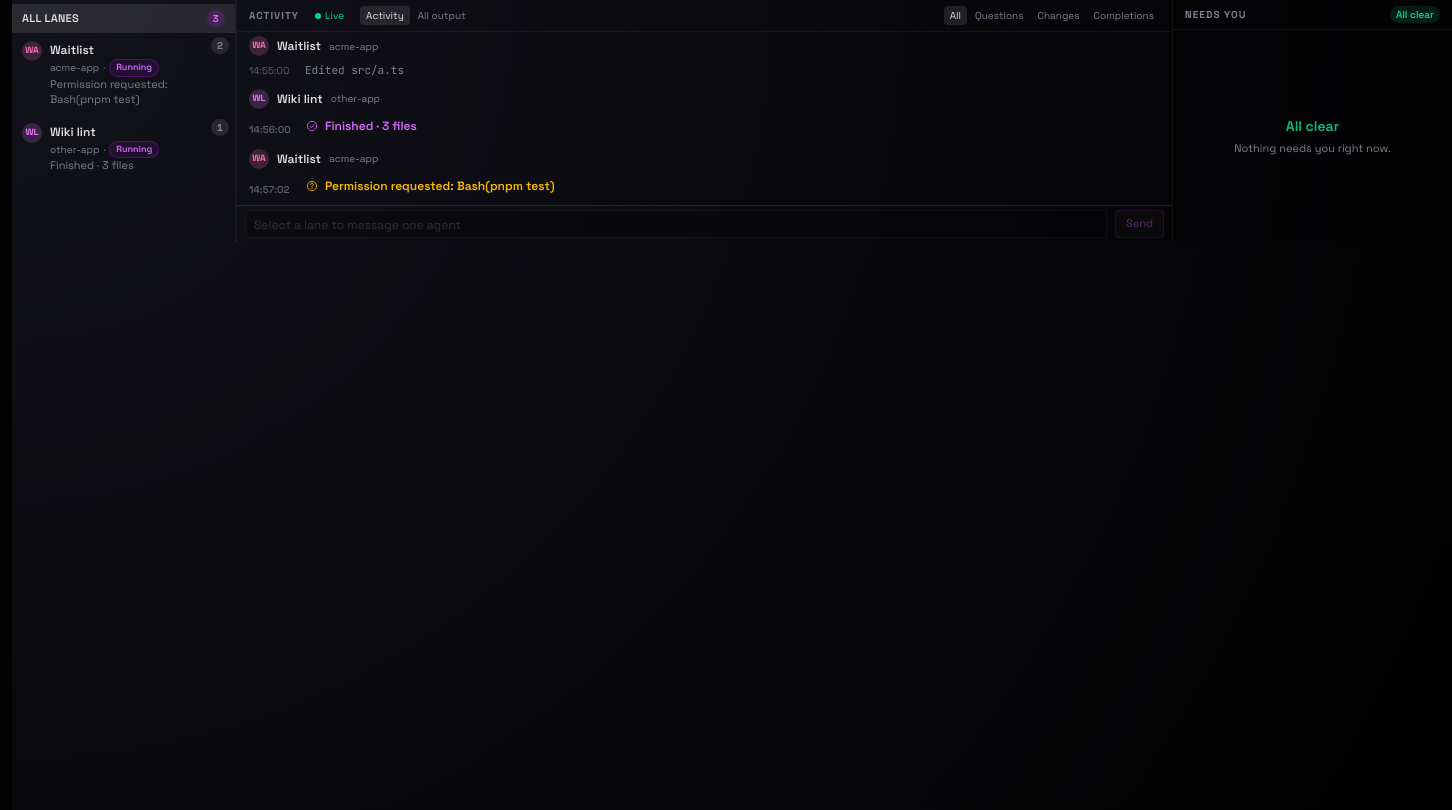
ActivityFeed ordering › keeps the same order for a shared moment in both modes
What coordinates should you click on to do the following:
click the button "All output"
I would click on:
 (442, 16)
Its box is x1=412 y1=6 x2=472 y2=25.
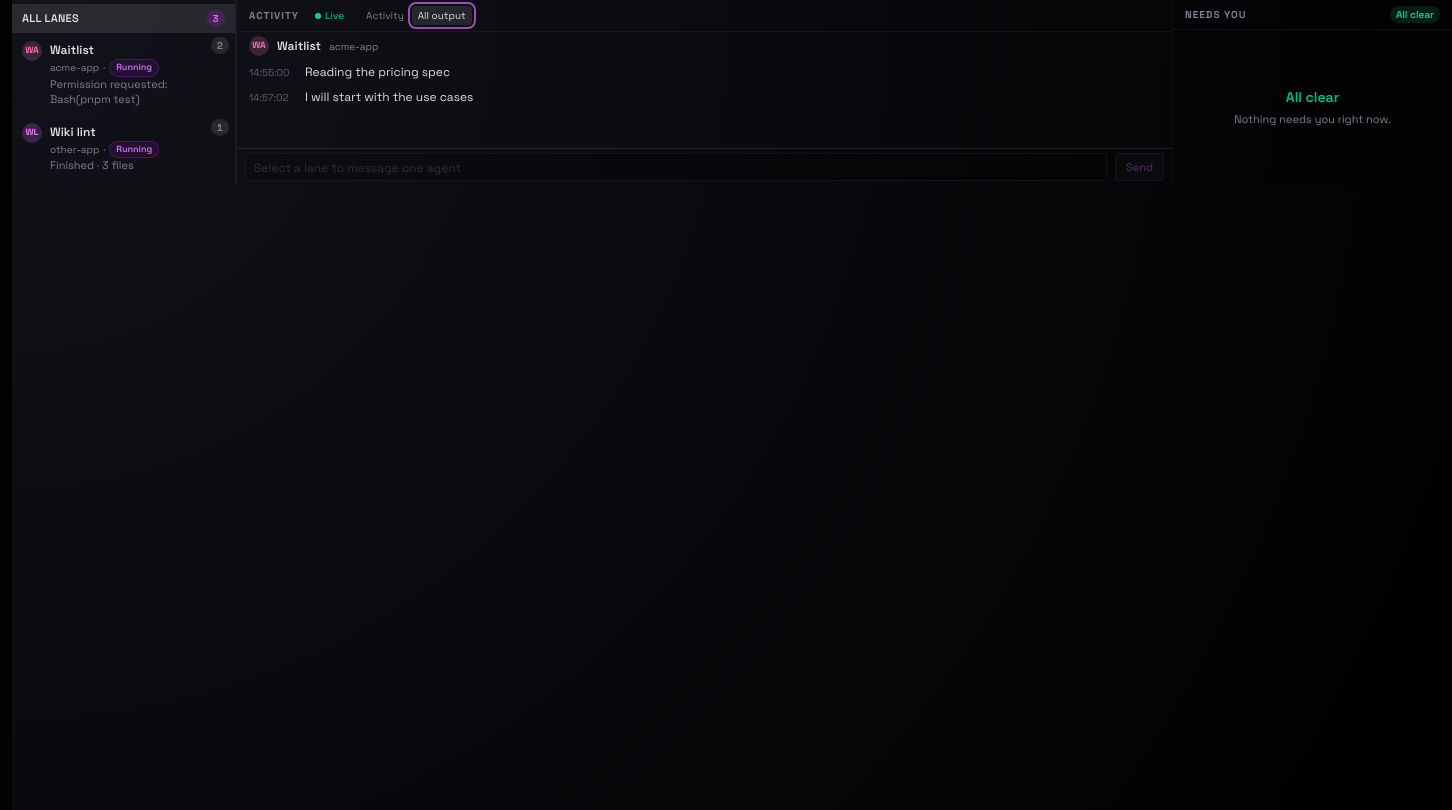
Now the element with test id "feed-row" shows "Reading the pricing spec", box x1=305 y1=64 x2=450 y2=80
Now the element with test id "feed-row" shows "I will start with the use cases", box x1=305 y1=88 x2=474 y2=104
